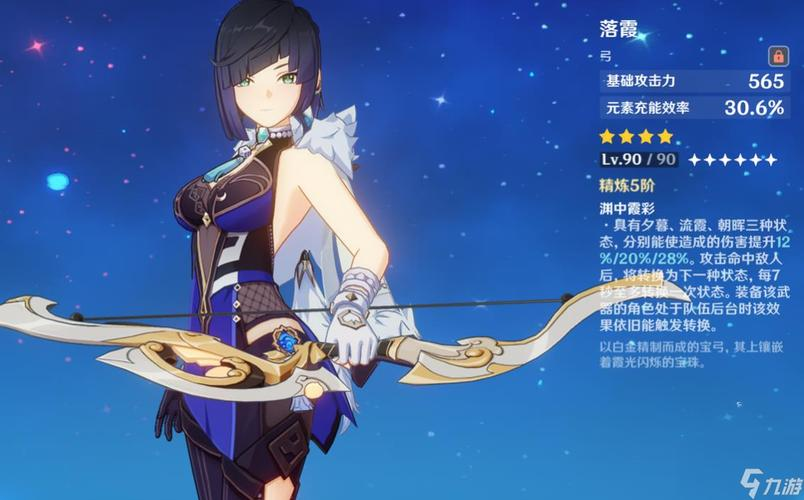夜兰: (146, 2, 390, 500)
